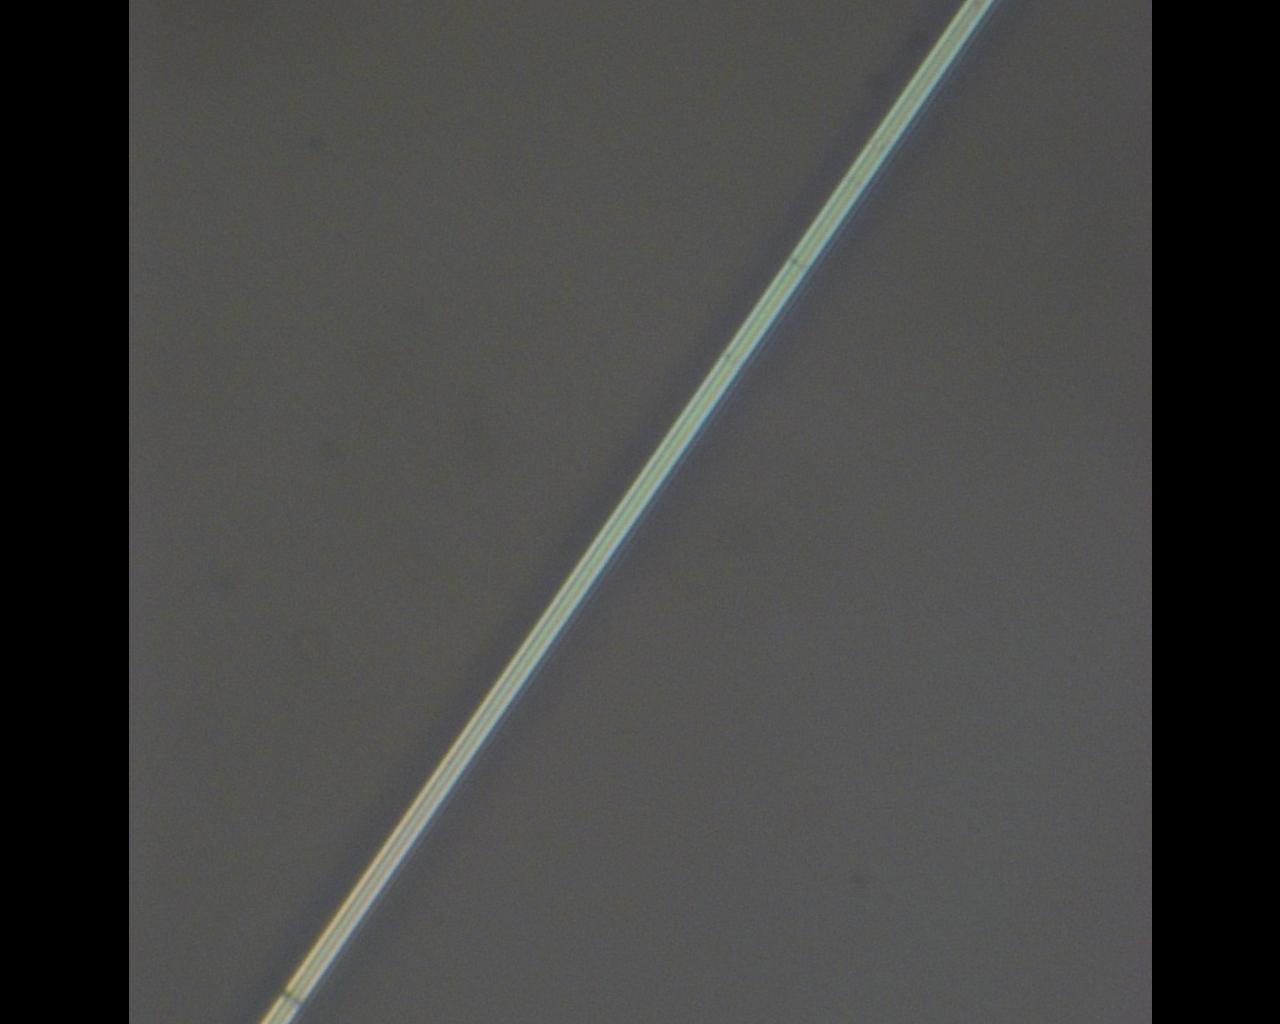fiber: (259, 0, 998, 1024)
